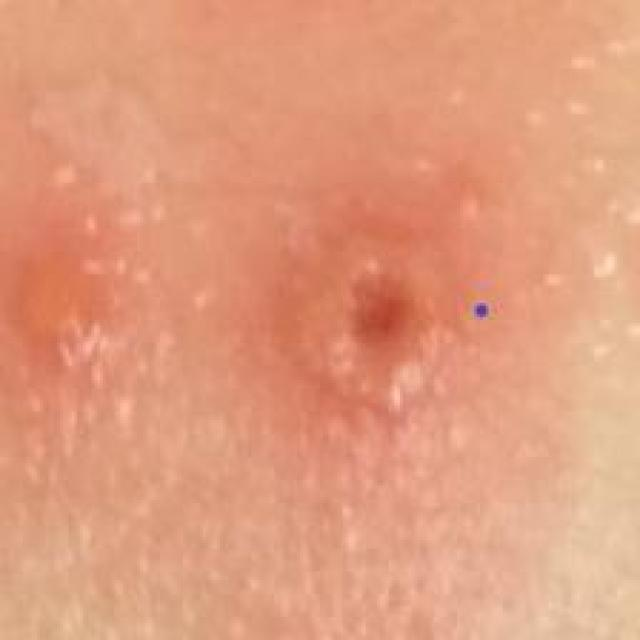others: (65, 139, 640, 605)
